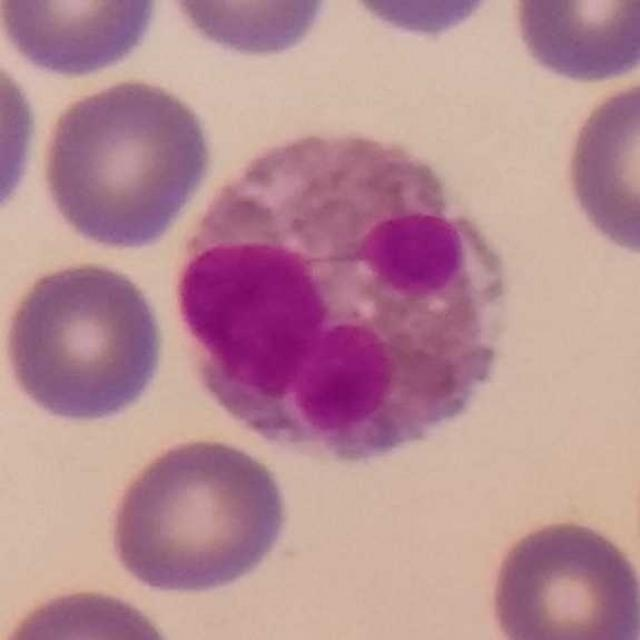eosino: (174, 124, 510, 470)
